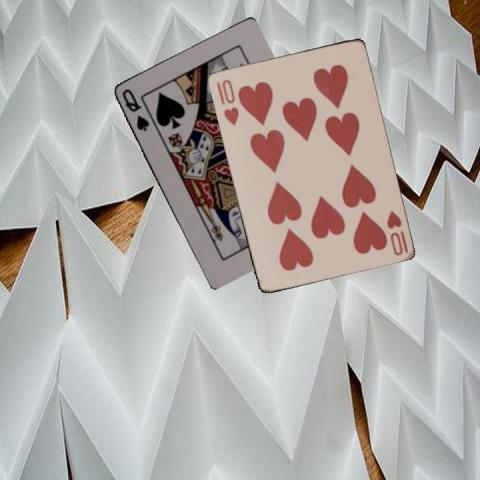10h: (213, 76, 240, 127), (384, 207, 410, 257)
Qs: (118, 85, 151, 133)
